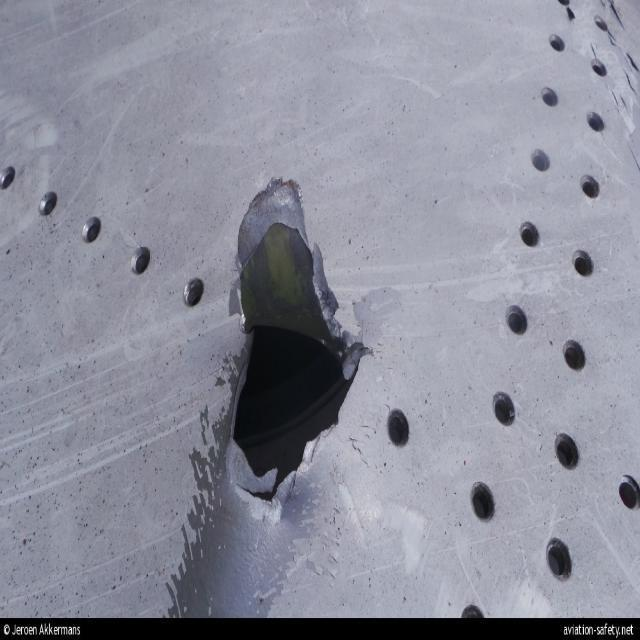crack: (219, 225, 375, 510), (563, 1, 639, 170)
